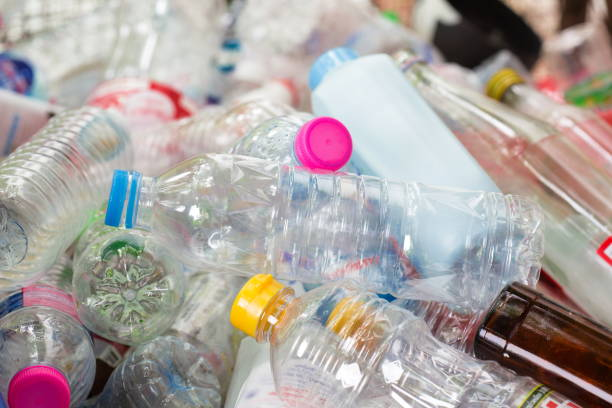plastic_bottle: (248, 10, 596, 325), (91, 126, 567, 346), (1, 63, 284, 315), (47, 156, 316, 386), (200, 253, 568, 408), (1, 244, 224, 408), (58, 281, 325, 408)
